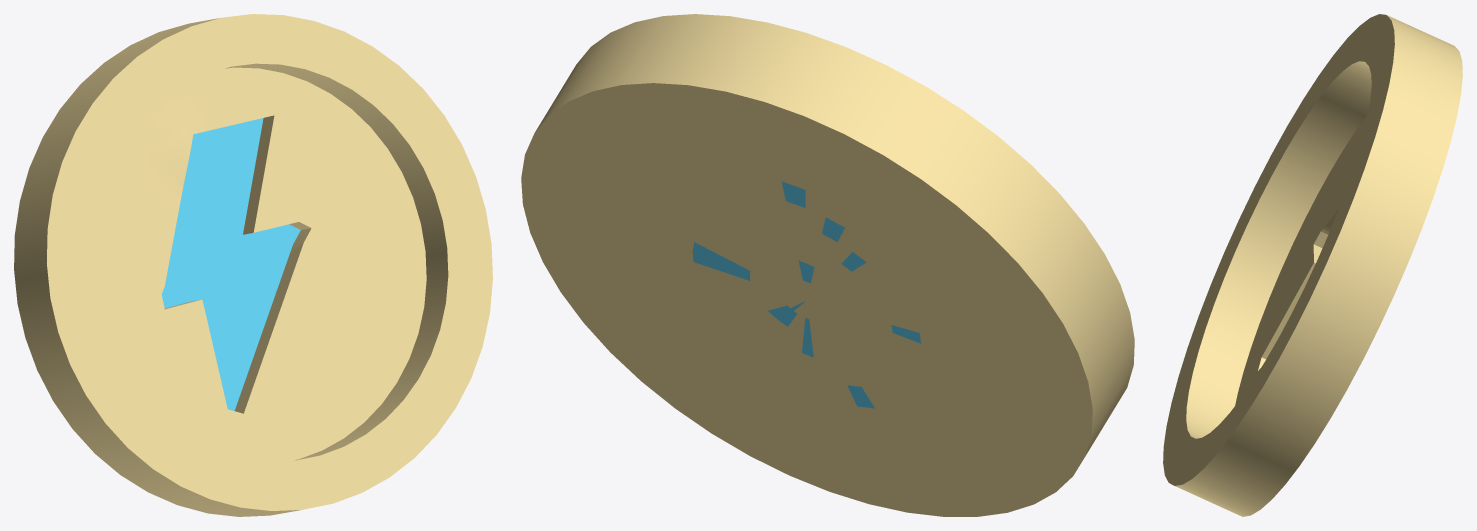
The model's file is powerup.fbx.
3 views of the same model, side by side, from view 1: azimuth 30°, elevation 25°; view 2: azimuth 150°, elevation 25°; view 3: azimuth 270°, elevation 25° (orthographic). The views are drawn at different scales.
Parts seen in each view (by area): view 1: pCylinder2; view 2: pCylinder2; view 3: pCylinder2.
Part boxes in pixels (box(x1,y1,x2,y2)): pCylinder2: box(14, 14, 492, 516); pCylinder2: box(521, 14, 1134, 516); pCylinder2: box(1163, 14, 1462, 516).
Size of the model in its own units: 2 by 1.92 by 1.16.
